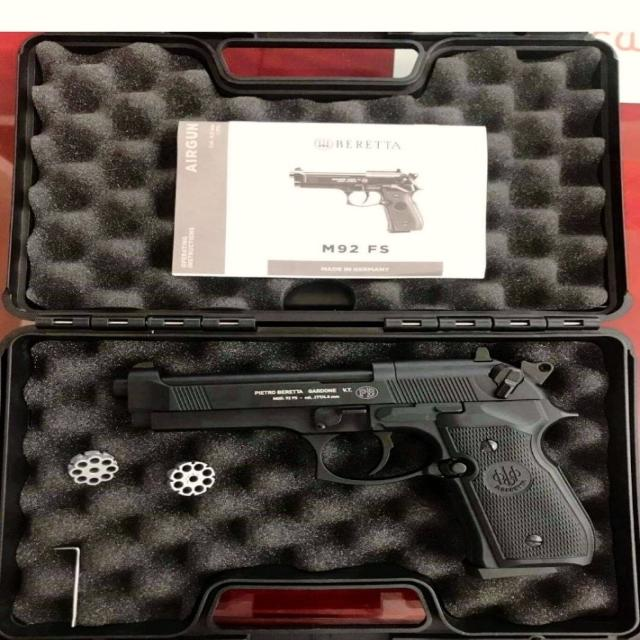Gun: (119, 355, 640, 571)
